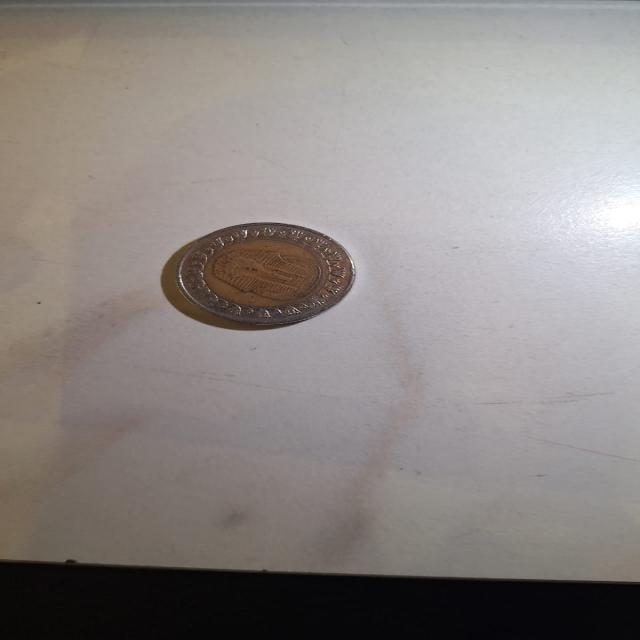One Pound: (173, 220, 358, 330)
